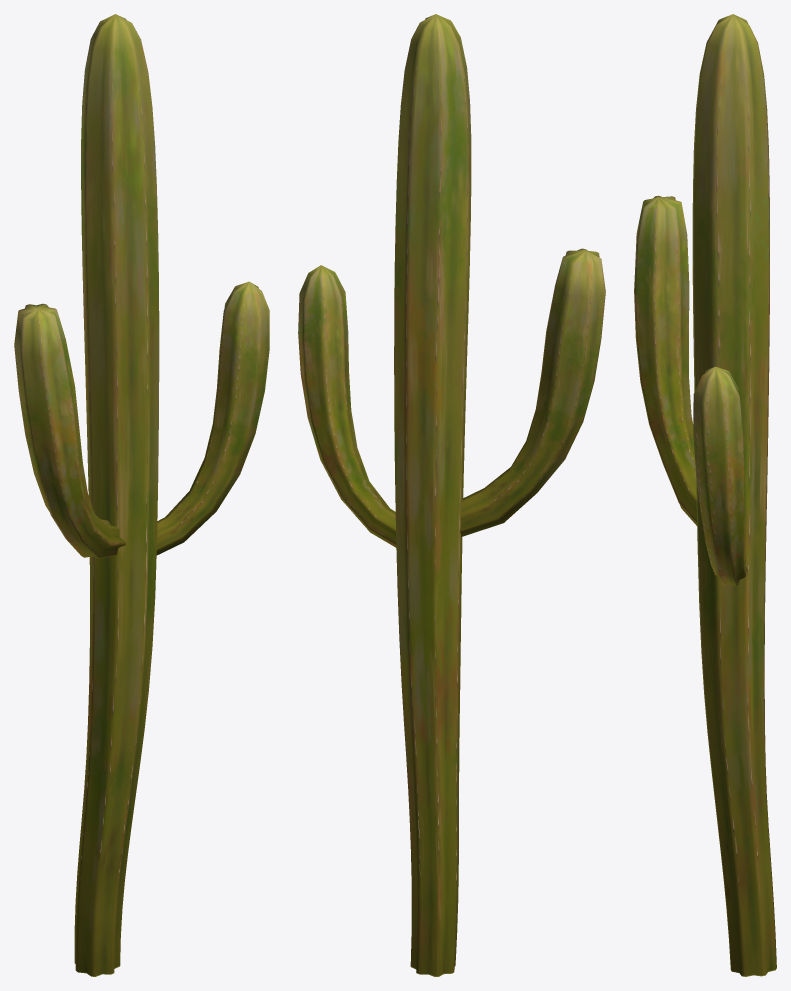
File: SM_Cactus02.fbx
The picture shows the model from 3 angles, left to right: view 1: azimuth 30°, elevation 25°; view 2: azimuth 150°, elevation 25°; view 3: azimuth 270°, elevation 25°; orthographic projection.
Visible parts, largest first — view 1: SM_Cactus02; view 2: SM_Cactus02; view 3: SM_Cactus02.
Part boxes in pixels (x1=…): SM_Cactus02: x1=14, y1=14, x2=269, y2=976; SM_Cactus02: x1=298, y1=14, x2=605, y2=976; SM_Cactus02: x1=634, y1=14, x2=776, y2=976.
Size of the model in its own units: 233 by 773 by 104.
